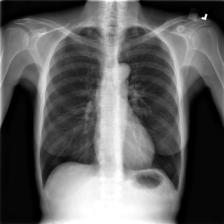normal: (39, 22, 186, 195)
